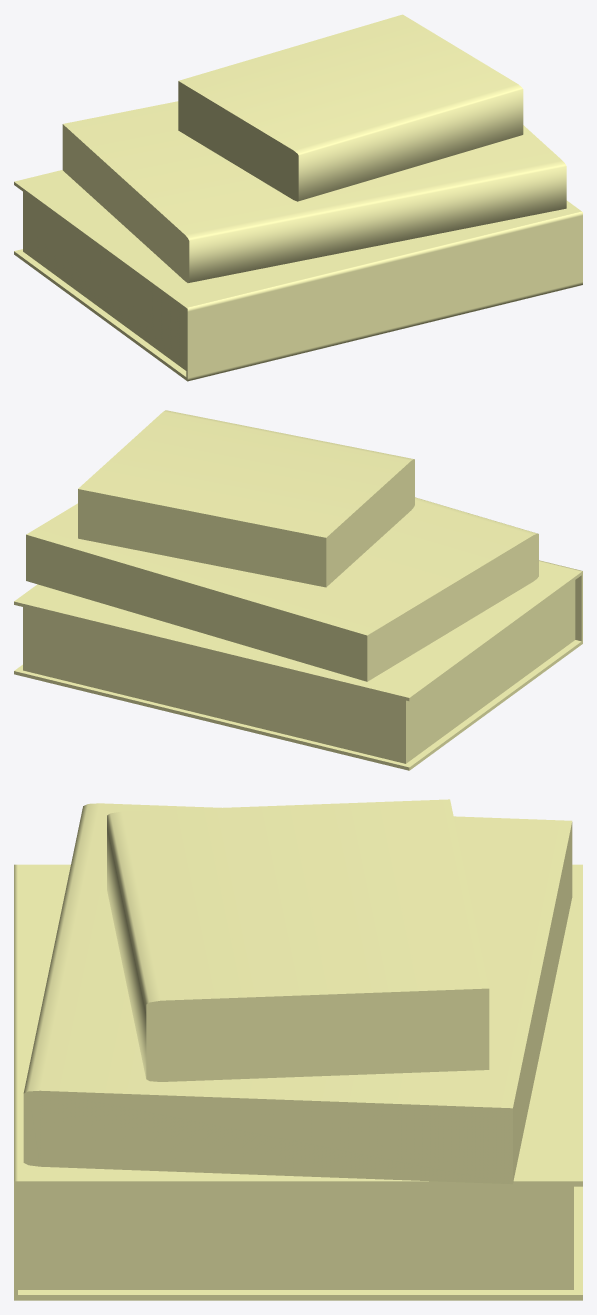
Rendered from MangaKa Props - A_R_Books_32.glb.
3 views of the same model, one above another, from view 1: azimuth 30°, elevation 25°; view 2: azimuth 150°, elevation 25°; view 3: azimuth 270°, elevation 25° (orthographic). The views are drawn at different scales.
Parts seen in each view (by area): view 1: A_R_Books_32_blueScreen; view 2: A_R_Books_32_blueScreen; view 3: A_R_Books_32_blueScreen.
Boxes of the visible parts, <box> form: A_R_Books_32_blueScreen: <box>14,14,582,381</box>; A_R_Books_32_blueScreen: <box>14,410,582,770</box>; A_R_Books_32_blueScreen: <box>14,799,582,1300</box>.
Bounding box in the file's own units: 0.3091 × 0.1263 × 0.2296.
